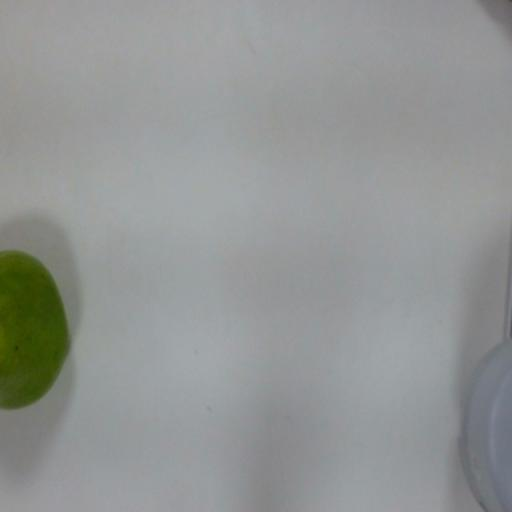Unripe: (0, 240, 75, 436)
